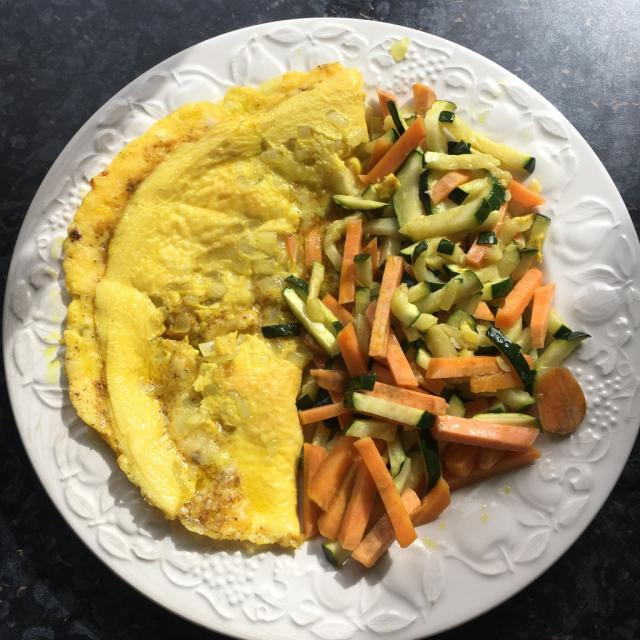egg-scrambled-prepared: (60, 73, 359, 554)
sweet-potato: (281, 79, 583, 578)
zucchini: (290, 100, 583, 494)
